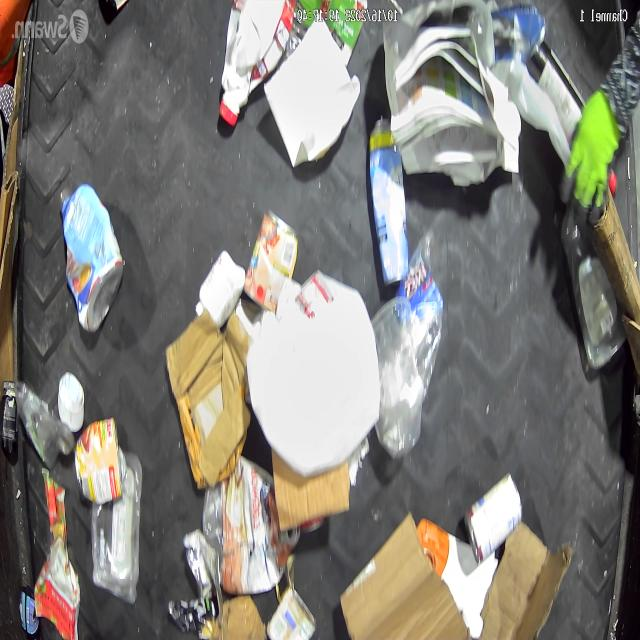can: (368, 114, 410, 285), (242, 206, 300, 312), (70, 414, 126, 509), (464, 472, 523, 562), (265, 583, 315, 640)
milk_jug: (247, 270, 381, 480)
non_white_jug: (217, 0, 296, 128)
plastic_bottle: (559, 207, 626, 370)
